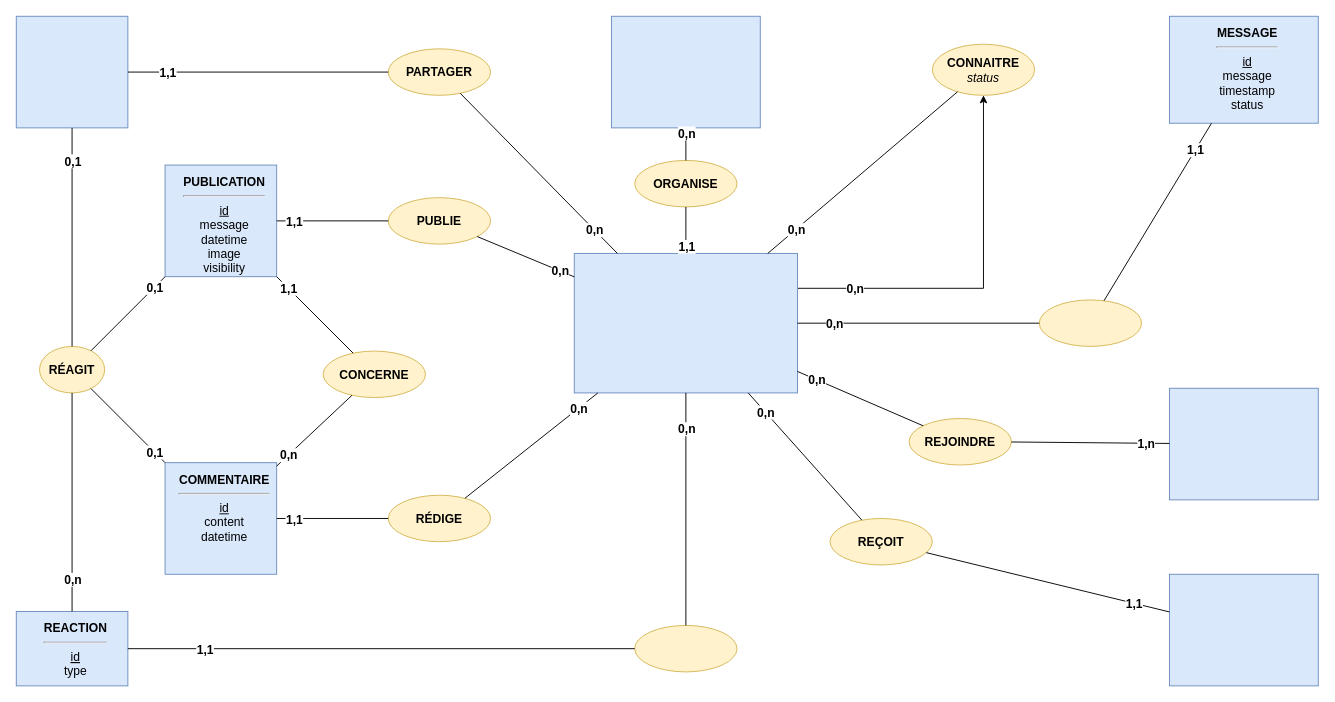
The diagram is 1335 pixels wide and 702 high, and some of its shapes have lost their labels. The centre of each missing label's shape, as x and y in pixels:
"CONVERSATION id title isGroup createdAt" goes at pixel 1243 443.
"ENVOIE" goes at pixel 1090 322.
"EVENEMENT id title description date location" goes at pixel 685 71.
"NOTIFICATION id type message read createdAt" goes at pixel 1243 629.
"POSE" goes at pixel 685 648.
"STORY id content image visibility expiresAt" goes at pixel 71 71.
"UTILISATEUR id email username password birthDate visibility" goes at pixel 685 322.
